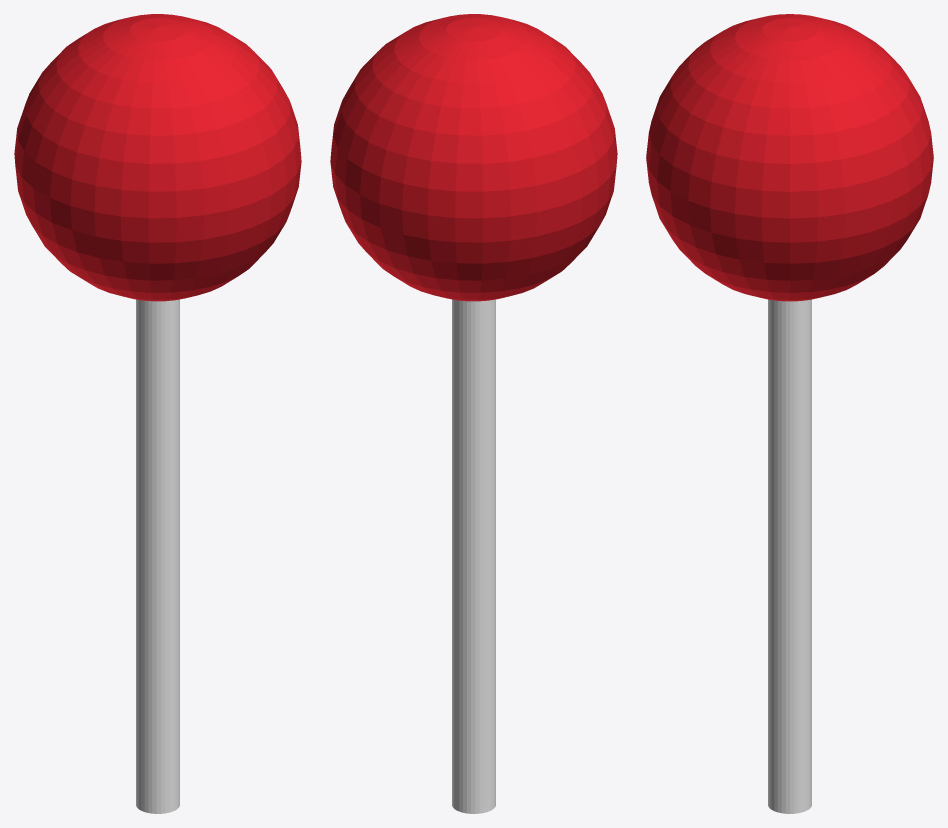
Rendered from chinchetilla.fbx.
The picture shows the model from 3 angles, left to right: view 1: azimuth 30°, elevation 25°; view 2: azimuth 150°, elevation 25°; view 3: azimuth 270°, elevation 25°; orthographic projection.
Visible parts, largest first — view 1: Cylinder; view 2: Cylinder; view 3: Cylinder.
Part boxes in pixels (bbox=[...]): Cylinder: bbox=[14, 14, 301, 813]; Cylinder: bbox=[330, 14, 617, 813]; Cylinder: bbox=[646, 14, 933, 813].
Size of the model in its own units: 130 by 387 by 130.
